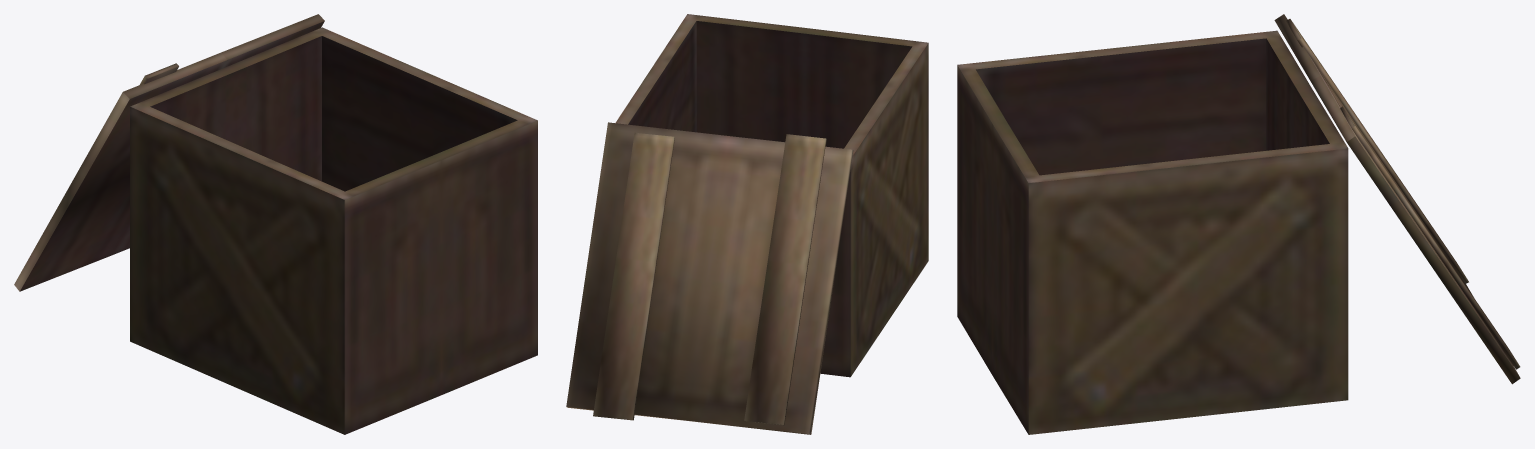
File: Map01_ZaWu_MuXiangZi.FBX
3 views of the same model, side by side, from view 1: azimuth 30°, elevation 25°; view 2: azimuth 150°, elevation 25°; view 3: azimuth 270°, elevation 25° (orthographic). The views are drawn at different scales.
Parts seen in each view (by area): view 1: Map01_ZaWu_MuXiangZi; view 2: Map01_ZaWu_MuXiangZi; view 3: Map01_ZaWu_MuXiangZi.
Part boxes in pixels (left/top/right/bottom): Map01_ZaWu_MuXiangZi: left=14, top=14, right=537, bottom=434; Map01_ZaWu_MuXiangZi: left=566, top=14, right=928, bottom=434; Map01_ZaWu_MuXiangZi: left=957, top=14, right=1520, bottom=434.
Size of the model in its own units: 157 by 118 by 218.
